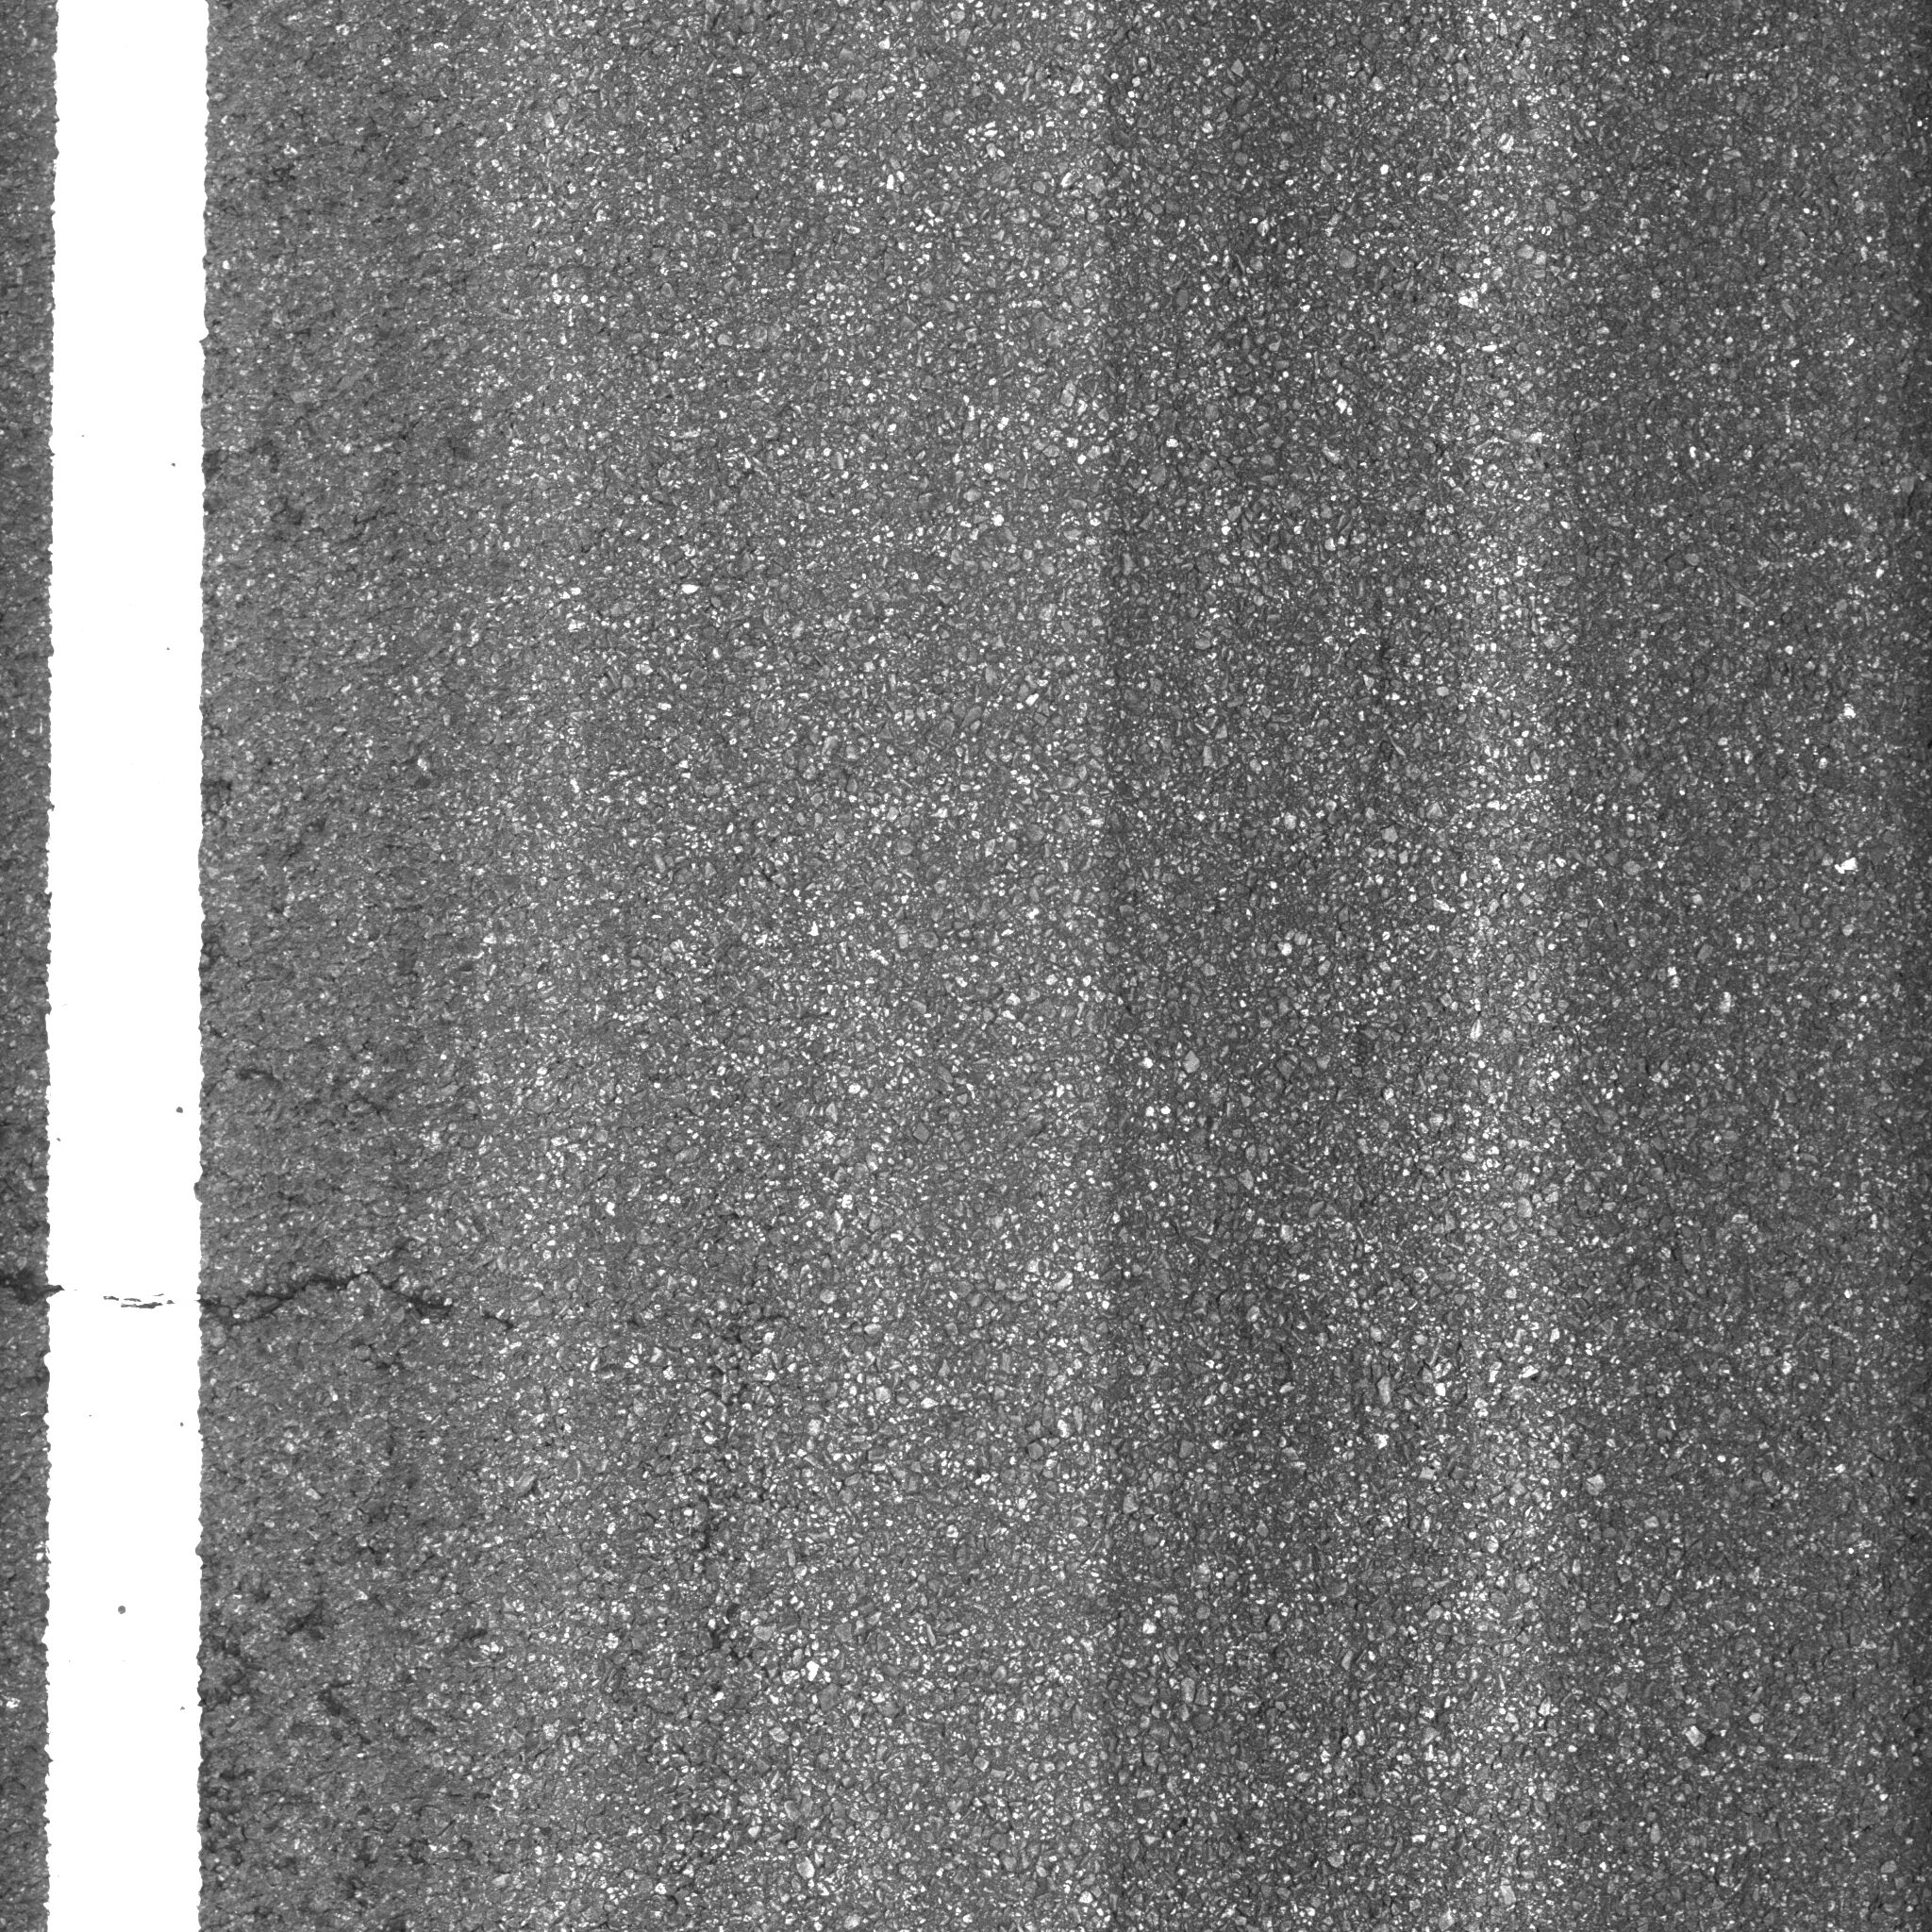transeverse: (9, 1212, 787, 1380)
